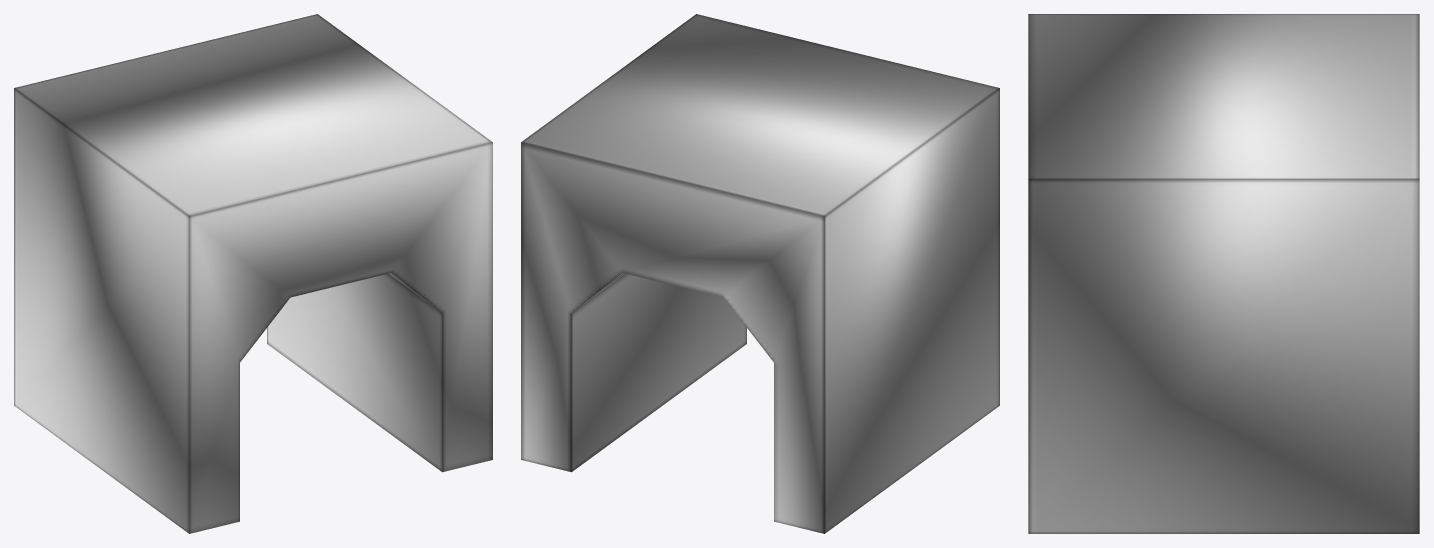
File: Tunnel-01.fbx
3 views of the same model, side by side, from view 1: azimuth 30°, elevation 25°; view 2: azimuth 150°, elevation 25°; view 3: azimuth 270°, elevation 25° (orthographic). The views are drawn at different scales.
Parts seen in each view (by area): view 1: Tunnel-01; view 2: Tunnel-01; view 3: Tunnel-01.
Part boxes in pixels (<box>): Tunnel-01: <box>14,14,492,533</box>; Tunnel-01: <box>521,14,999,533</box>; Tunnel-01: <box>1028,14,1419,533</box>.
Bounding box in the file's own units: 1 × 1 × 1.
